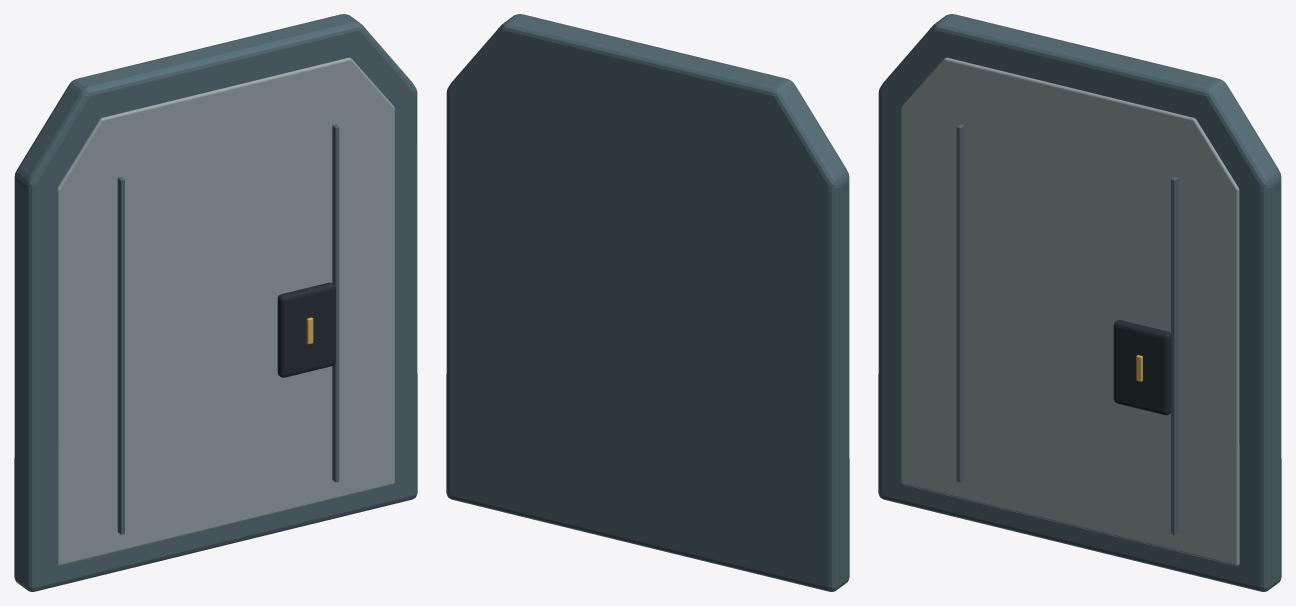
File: door.glb
The picture shows the model from 3 angles, left to right: view 1: azimuth 30°, elevation 25°; view 2: azimuth 150°, elevation 25°; view 3: azimuth 330°, elevation 25°; orthographic projection.
Visible parts, largest first — view 1: Inset cladding, Door leaf, Recessed lock, Machined seam, Machined seam.001; view 2: Door leaf; view 3: Inset cladding, Door leaf, Recessed lock, Machined seam, Machined seam.001.
Boxes of the visible parts, bbox=[...] form: Inset cladding: bbox=[56, 57, 394, 565]; Door leaf: bbox=[14, 14, 417, 591]; Recessed lock: bbox=[277, 282, 335, 377]; Machined seam: bbox=[117, 177, 124, 534]; Machined seam.001: bbox=[332, 124, 339, 482]; Door leaf: bbox=[446, 14, 849, 591]; Inset cladding: bbox=[901, 57, 1239, 565]; Door leaf: bbox=[878, 14, 1281, 591]; Recessed lock: bbox=[1113, 320, 1170, 415]; Machined seam: bbox=[956, 124, 963, 482]; Machined seam.001: bbox=[1171, 177, 1178, 534].
Bounding box in the file's own units: 2.44 × 2.93 × 0.291.
